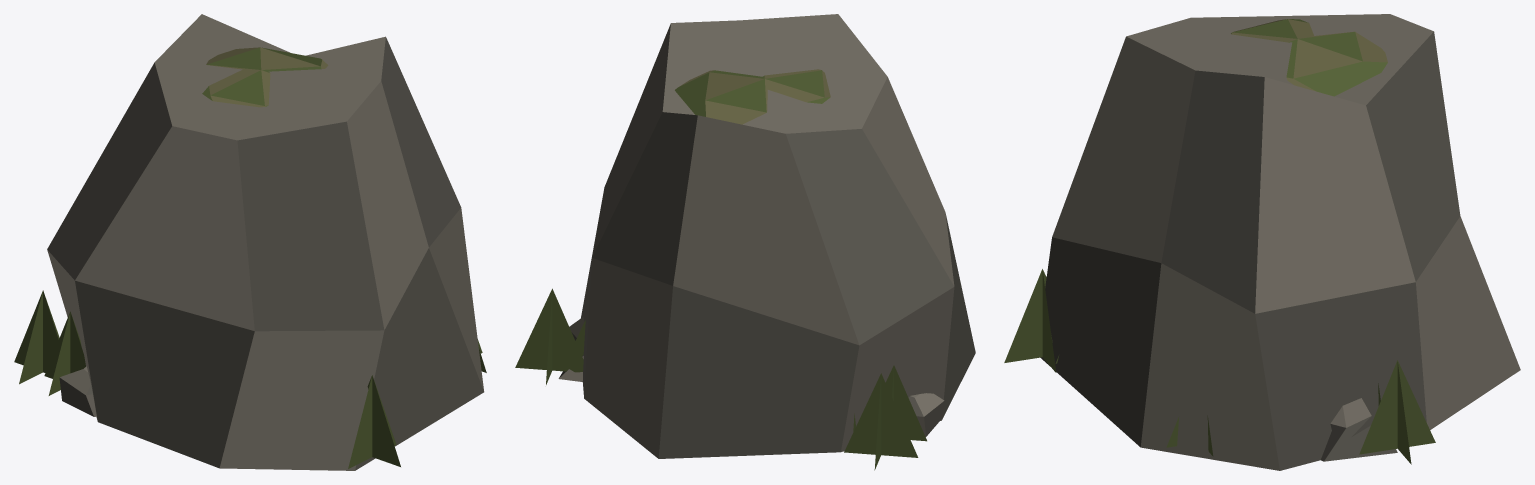
File: natur_steine.glb
3 views of the same model, side by side, from view 1: azimuth 30°, elevation 25°; view 2: azimuth 150°, elevation 25°; view 3: azimuth 270°, elevation 25° (orthographic). The views are drawn at different scales.
Parts seen in each view (by area): view 1: Findling1, Lesesteinhaufen1; view 2: Findling1, Lesesteinhaufen1; view 3: Findling1, Felsbrocken3.
Boxes of the visible parts, left/top/right/bottom form: Findling1: left=14, top=14, right=484, bottom=470; Lesesteinhaufen1: left=44, top=311, right=486, bottom=416; Findling1: left=515, top=14, right=975, bottom=470; Lesesteinhaufen1: left=885, top=365, right=944, bottom=441; Findling1: left=1004, top=14, right=1520, bottom=470; Felsbrocken3: left=1321, top=398, right=1397, bottom=461.
Bounding box in the file's own units: 3.02 × 2.36 × 3.16.
